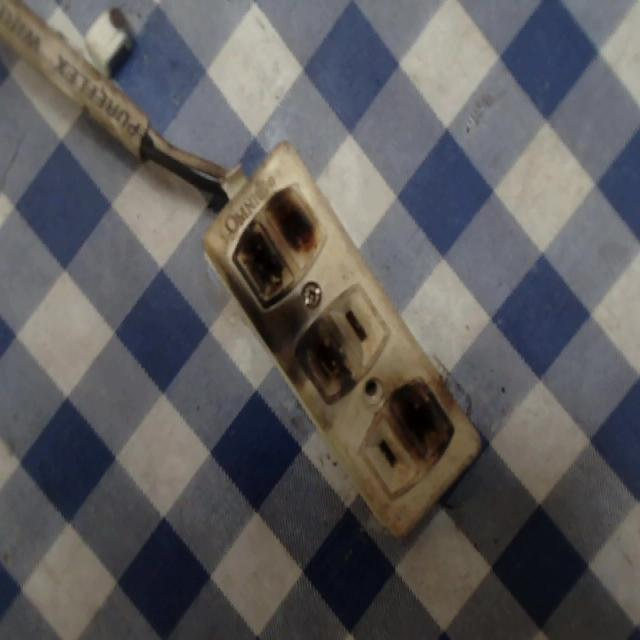-: (221, 181, 330, 315), (383, 360, 461, 468), (302, 318, 352, 402)
